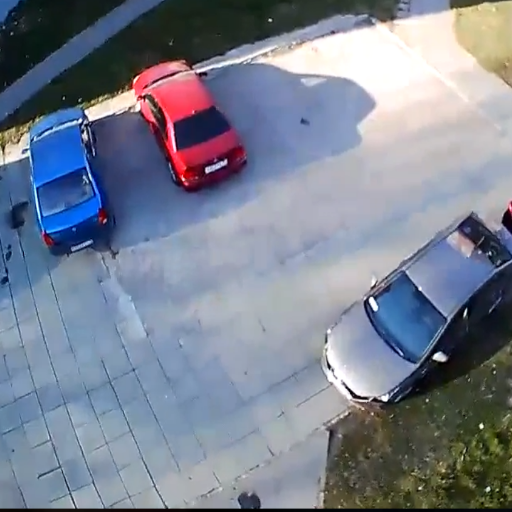Car: (318, 209, 509, 408), (128, 60, 248, 190), (27, 105, 112, 254)
